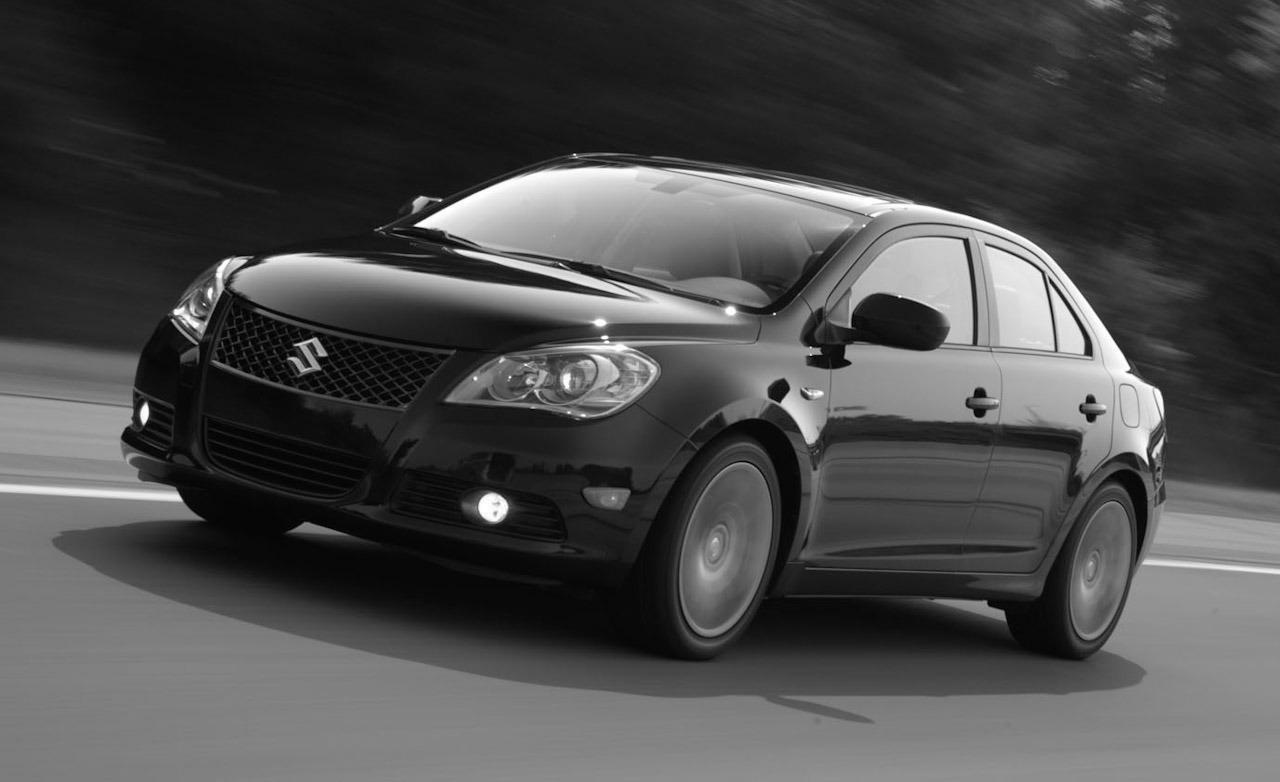car: (123, 145, 1172, 661)
